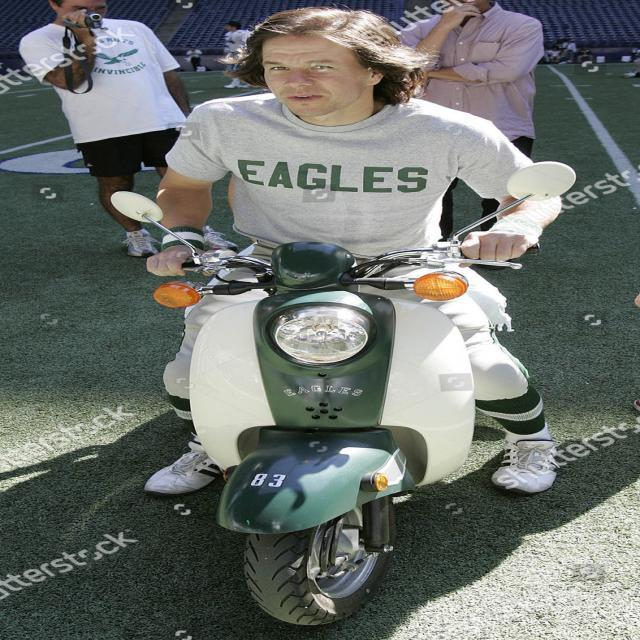Bike: (137, 11, 540, 630)
